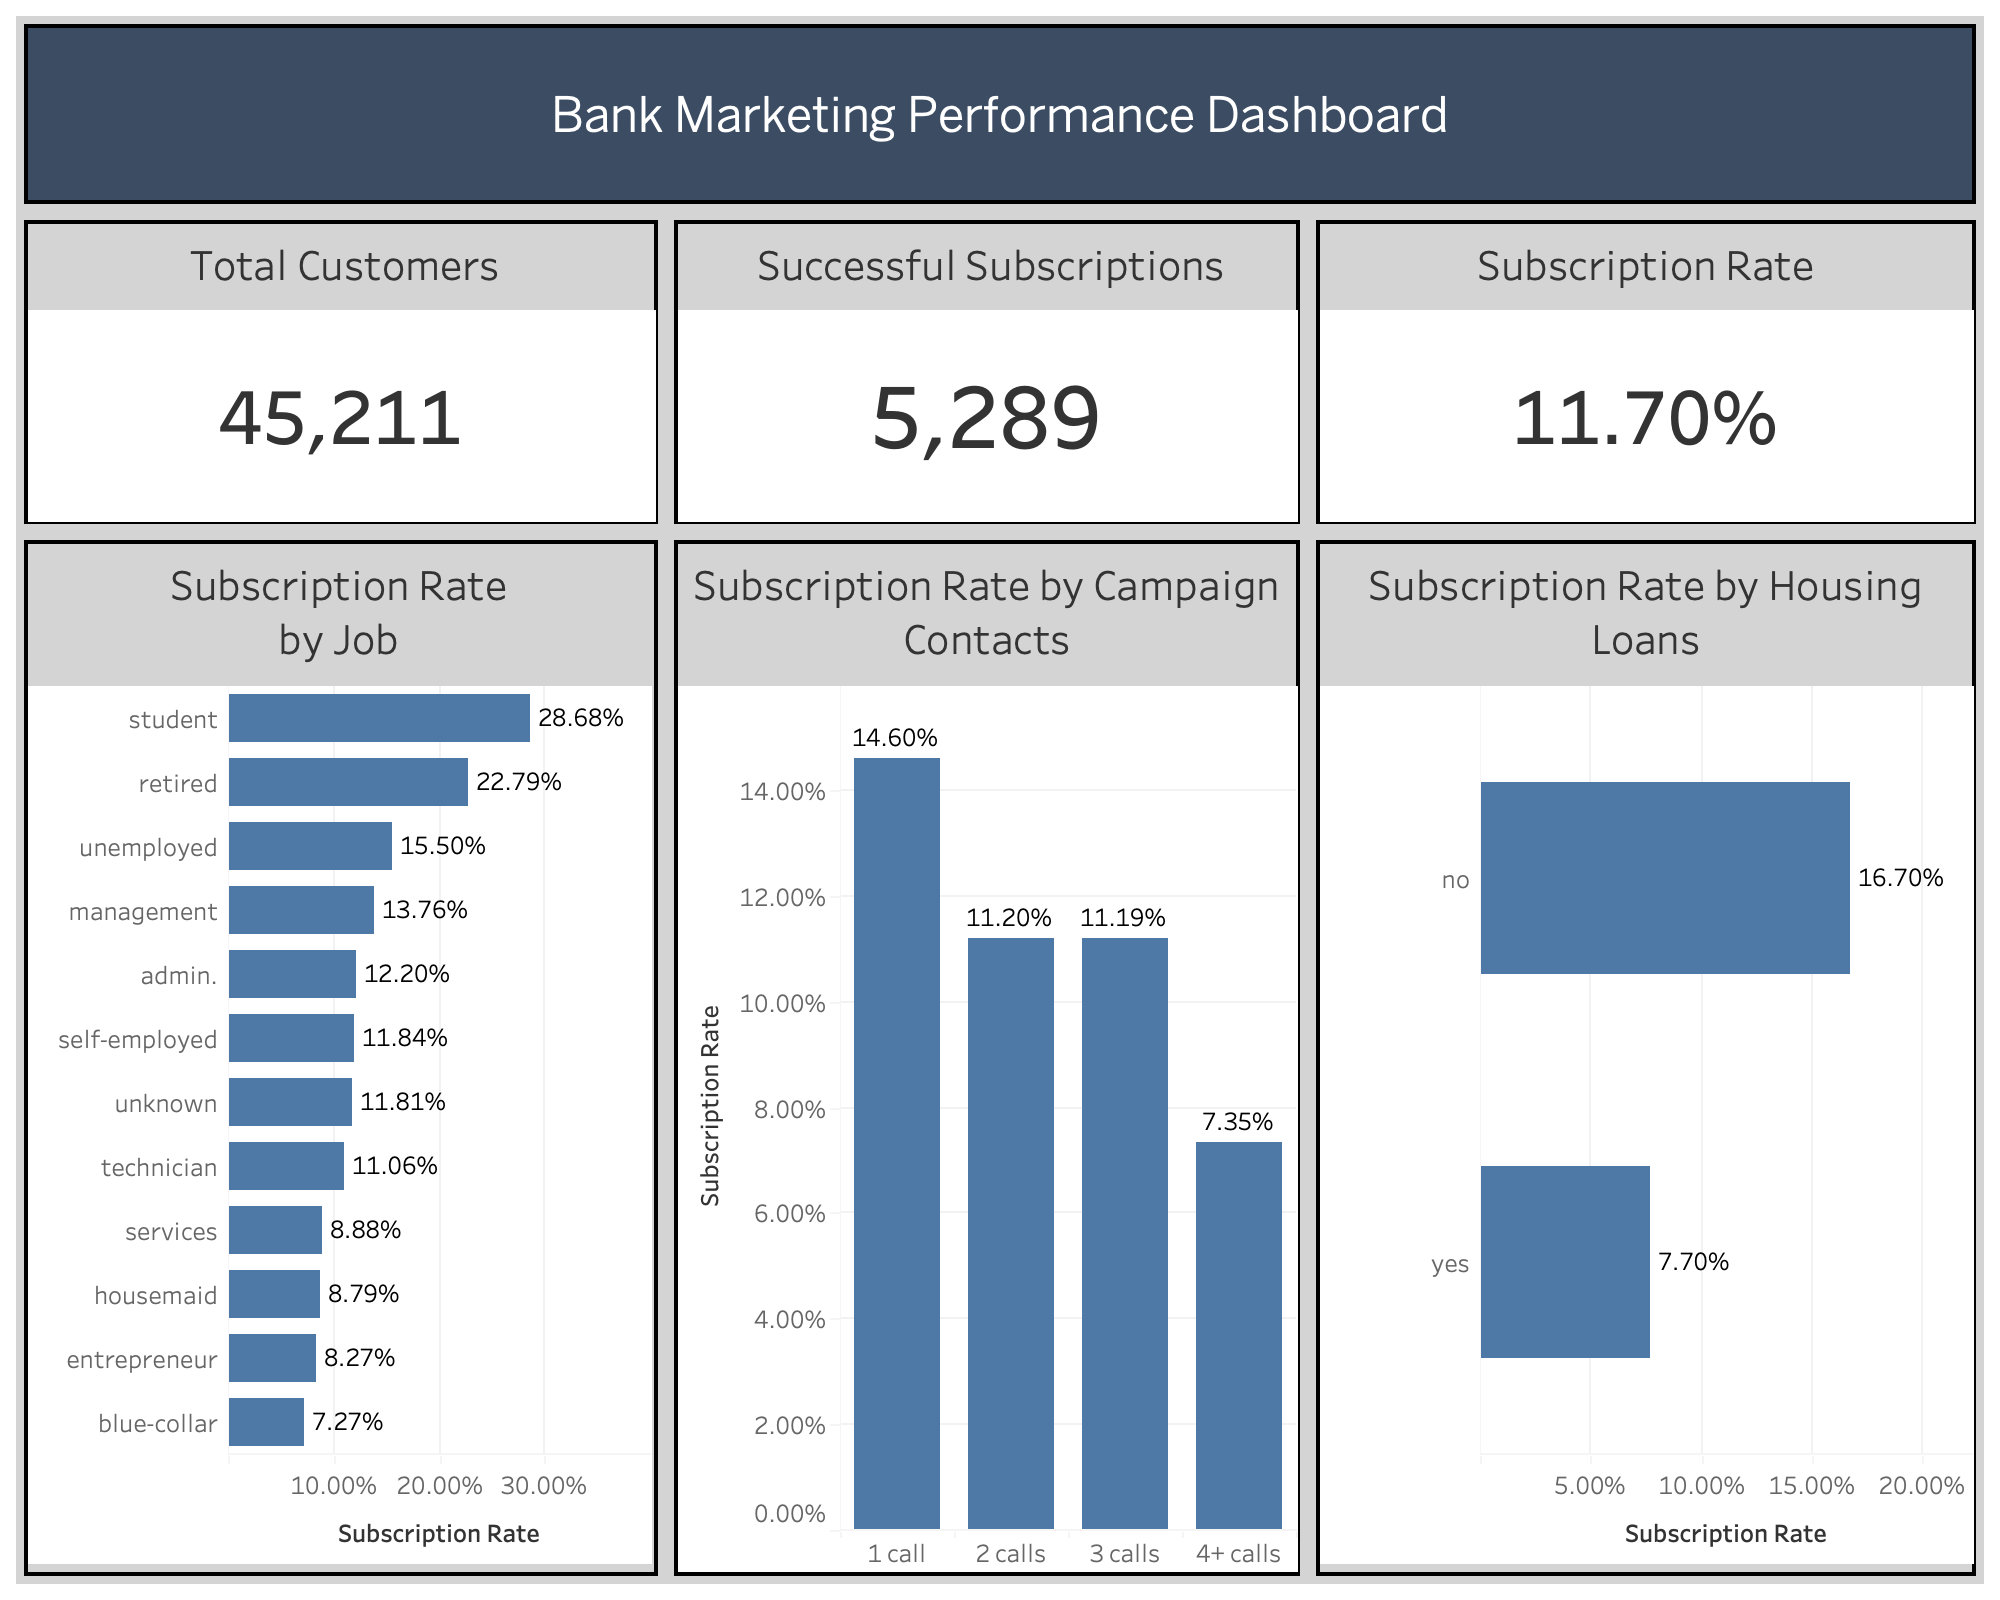

Layout of this report page (visuals, bound fields, positions):
{"tool":"tableau","page":{"name":"Dashboard 1","canvas":[1000,800],"ordinal":0},"visuals":[{"type":"title","box":[8,8,984,98]},{"type":"worksheet","title":"KPI Total Customers","mark":"Automatic","box":[8,106,325,160]},{"type":"worksheet","title":"KPI SUCCESSFUL SUBSCRIPTIONS","mark":"Automatic","box":[333,106,321,160]},{"type":"worksheet","title":"KPI Subscription Rate","mark":"Automatic","box":[654,106,338,160]},{"type":"worksheet","title":"Subscription Rate by Job","mark":"Automatic","rows":["job"],"cols":["Calculation_1153927822798850"],"box":[8,266,325,526]},{"type":"worksheet","title":"Subscription Rate by Campaign Contacts","mark":"Automatic","rows":["Calculation_1153927822798850"],"cols":["Calculation_1153928763027459"],"box":[333,266,321,526]},{"type":"worksheet","title":"Subscription Rate by Housing Loans","mark":"Automatic","rows":["housing"],"cols":["Calculation_1153927822798850"],"box":[654,266,338,526]}]}

Visuals, with their boxes in screenshot pixels (x1, y1, x2, y2), scaled from the page's 1000x800 canvas onto the 2000x1600 screenshot:
title: [16, 16, 1984, 212]
"KPI Total Customers" worksheet: [16, 212, 666, 532]
"KPI SUCCESSFUL SUBSCRIPTIONS" worksheet: [666, 212, 1308, 532]
"KPI Subscription Rate" worksheet: [1308, 212, 1984, 532]
"Subscription Rate by Job" worksheet: [16, 532, 666, 1584]
"Subscription Rate by Campaign Contacts" worksheet: [666, 532, 1308, 1584]
"Subscription Rate by Housing Loans" worksheet: [1308, 532, 1984, 1584]
